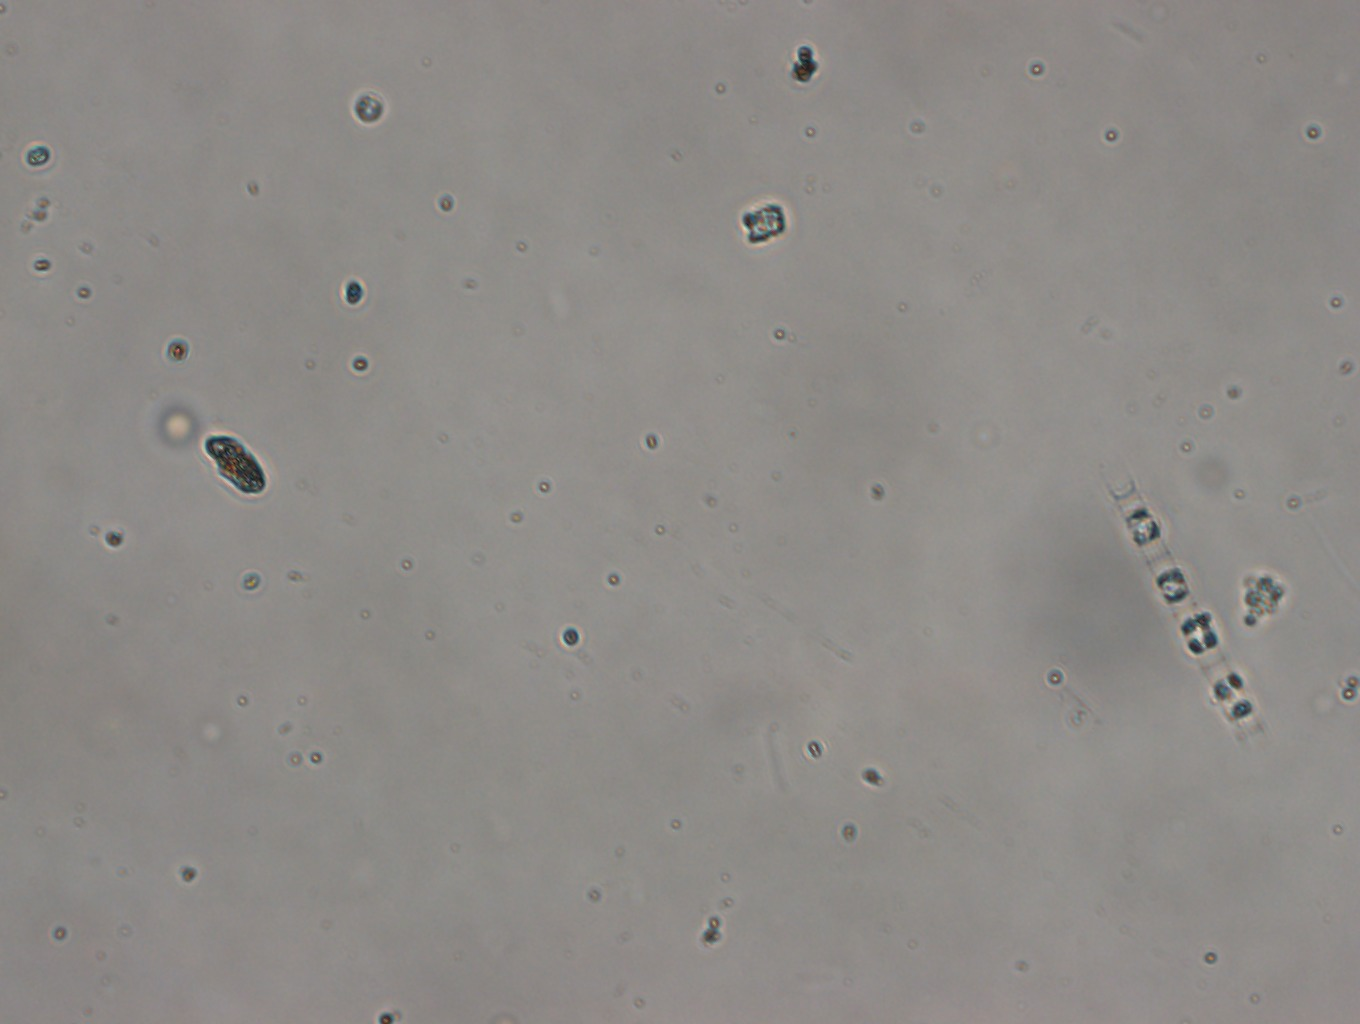skeletonema: (1104, 478, 1271, 757)
